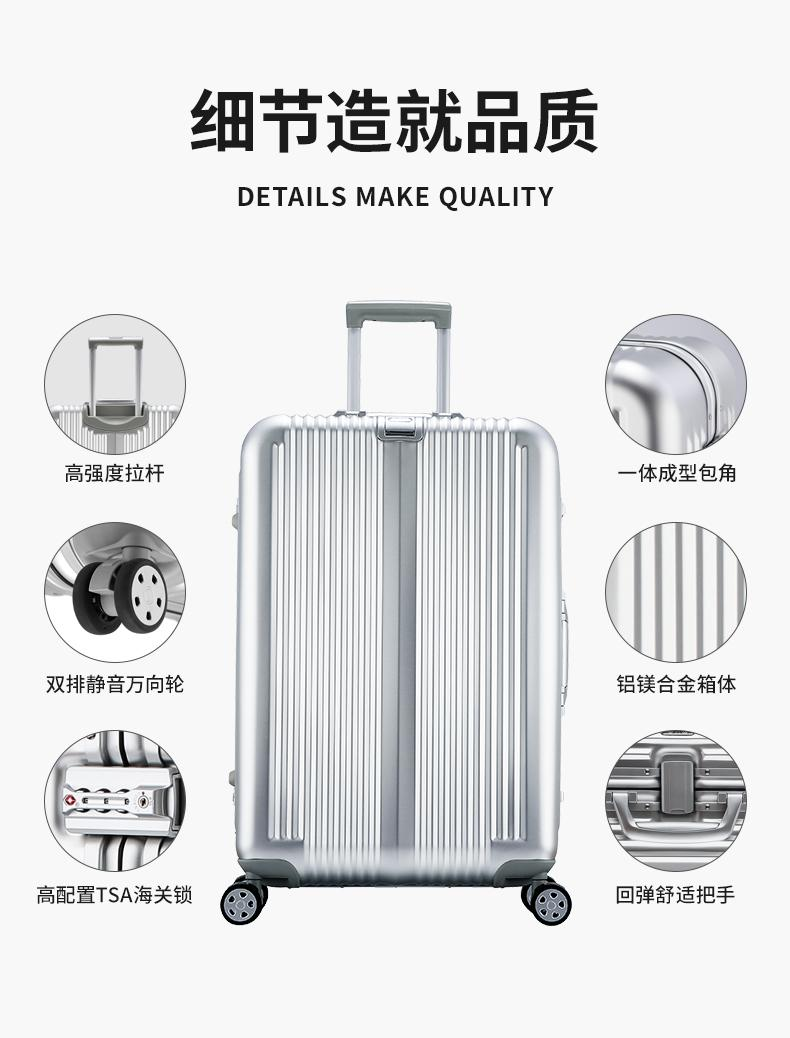luggage: (219, 297, 574, 928)
